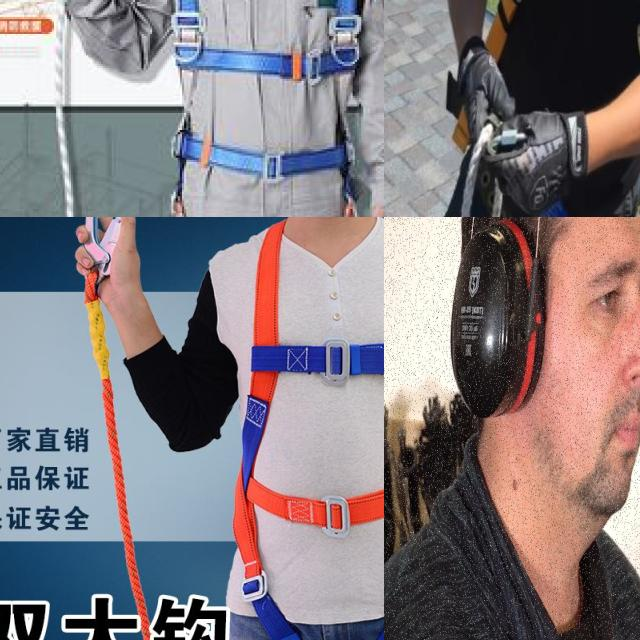Ear-protection: (435, 217, 640, 518)
Harness: (229, 217, 384, 640), (163, 0, 372, 217), (74, 217, 146, 319)
No_Glasses: (575, 242, 640, 336)
